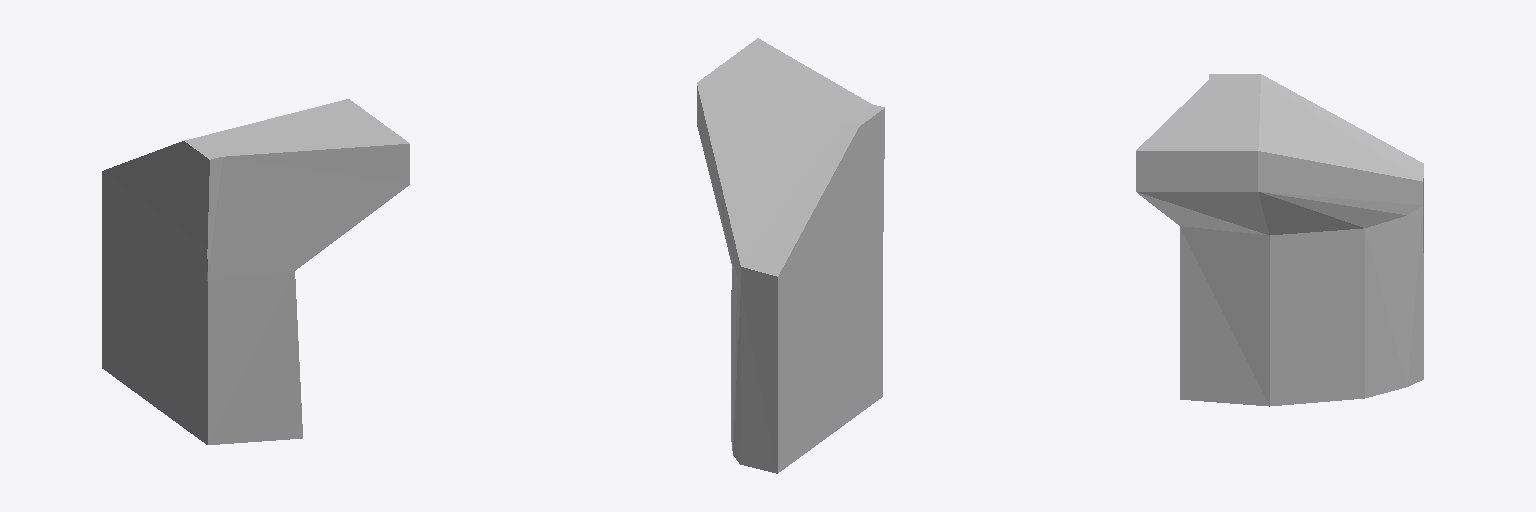
File: shoulder_light_collision.obj
3 renders of one model, left to right at view 1: azimuth 30°, elevation 25°; view 2: azimuth 150°, elevation 25°; view 3: azimuth 270°, elevation 25°, orthographic.
Bounding box in the file's own units: 0.1312 × 0.2215 × 0.1997.